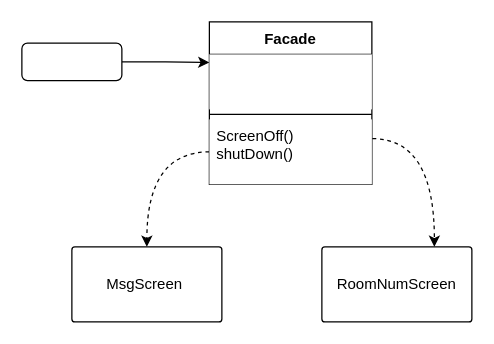
Image size: 494x344. Some labels were removed from this diagram. The centre of each missing label's shape, as x and y in pixels:
"Button" belongs at point (71, 61).
"MsgScreen RoomNumScreen" belongs at point (290, 81).
